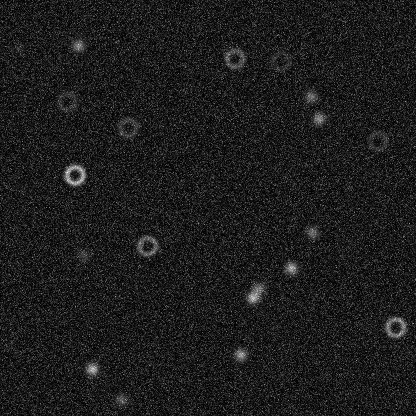Ring: (55, 89, 79, 113), (62, 162, 86, 186), (383, 315, 407, 339), (268, 48, 292, 72), (365, 128, 389, 152), (222, 46, 246, 70), (116, 115, 140, 139), (135, 233, 159, 257)
Spot: (84, 361, 100, 377), (232, 346, 248, 362), (250, 280, 266, 296), (10, 40, 26, 56), (304, 224, 320, 240), (283, 259, 299, 275), (310, 110, 326, 126), (70, 37, 86, 53), (113, 391, 129, 407), (244, 289, 260, 305), (302, 88, 318, 104), (75, 247, 91, 263)
